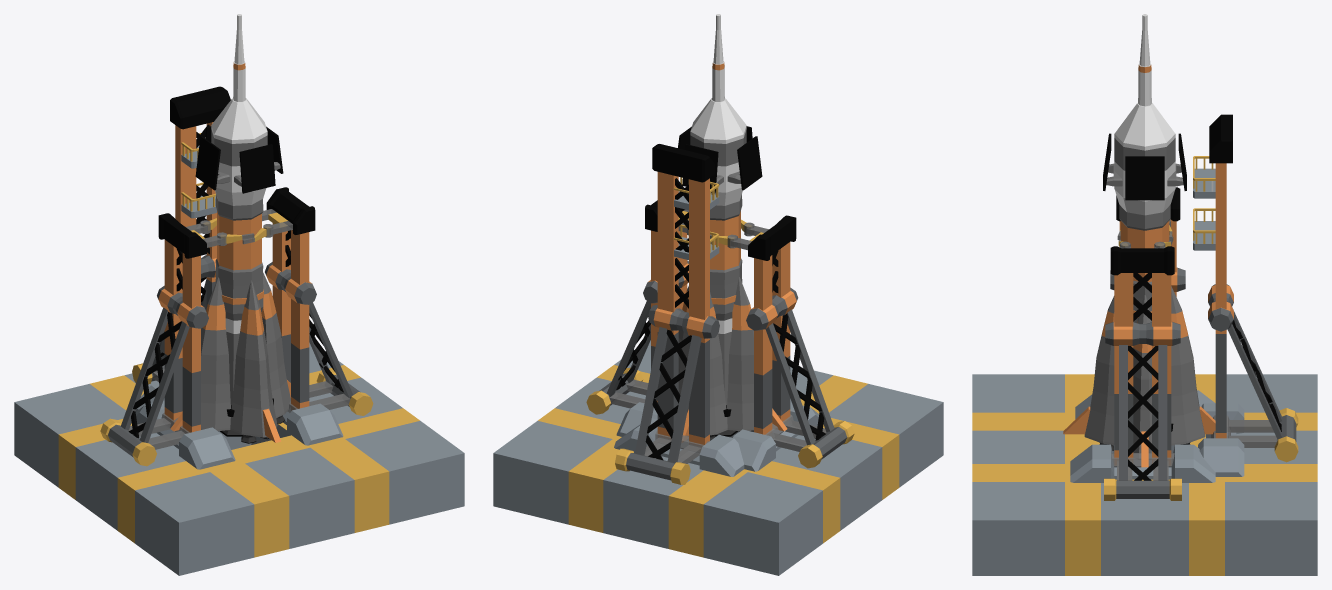
Rendered from rocket2.fbx.
3 views of the same model, side by side, from view 1: azimuth 30°, elevation 25°; view 2: azimuth 150°, elevation 25°; view 3: azimuth 270°, elevation 25° (orthographic). The views are drawn at different scales.
Visible parts, largest first — view 1: Cube, Cube.087, Cylinder.003, Cube.024, Cube.001, Cylinder.007, Cylinder.011, Cube.061, Cylinder.009, Cylinder, Cube.062, Cylinder.012 (+7 smaller); view 2: Cube, Cube.087, Cube.061, Cube.062, Cube.001, Cylinder.002, Cylinder.007, Cube.024, Cylinder.006, Cylinder.012, Cylinder.011, Cylinder (+5 smaller); view 3: Cube, Cube.087, Cube.001, Cube.061, Cylinder.005, Cube.024, Cylinder, Cylinder.003, Cylinder.006, Cylinder.009, Cylinder.012, Cube.062 (+7 smaller).
Part boxes in pixels (x1,y1,x2,y2): Cube: (14,342,464,575); Cube.087: (164,122,309,432); Cylinder.003: (230,280,281,443); Cube.024: (158,86,315,258); Cube.001: (135,383,343,469); Cylinder.007: (170,277,230,431); Cylinder.011: (215,211,263,320); Cube.061: (121,279,352,442); Cylinder.009: (195,126,283,193); Cylinder: (211,126,267,220); Cube.062: (128,124,343,438); Cylinder.012: (211,14,267,139); Cube: (493,340,943,575); Cube.087: (651,172,790,446); Cube.061: (607,301,834,463); Cube.062: (616,178,825,460); Cube.001: (614,402,819,476); Cylinder.002: (586,367,854,484); Cylinder.007: (727,277,787,431); Cube.024: (645,144,796,260); Cylinder.006: (643,260,798,338); Cylinder.012: (690,14,746,139); Cylinder.011: (710,211,742,320); Cylinder: (690,126,746,220); Cube: (972,374,1317,575); Cube.087: (1114,163,1226,464); Cube.001: (1070,390,1244,482); Cube.061: (1119,307,1282,480); Cylinder.005: (1171,286,1215,445); Cube.024: (1110,114,1232,275); Cylinder: (1114,134,1175,230); Cylinder.003: (1063,296,1114,450); Cylinder.006: (1105,267,1233,345); Cylinder.009: (1103,133,1186,200); Cylinder.012: (1114,14,1175,146); Cube.062: (1128,273,1281,480).
Bounding box in the file's own units: 2870 × 4473 × 2870.
